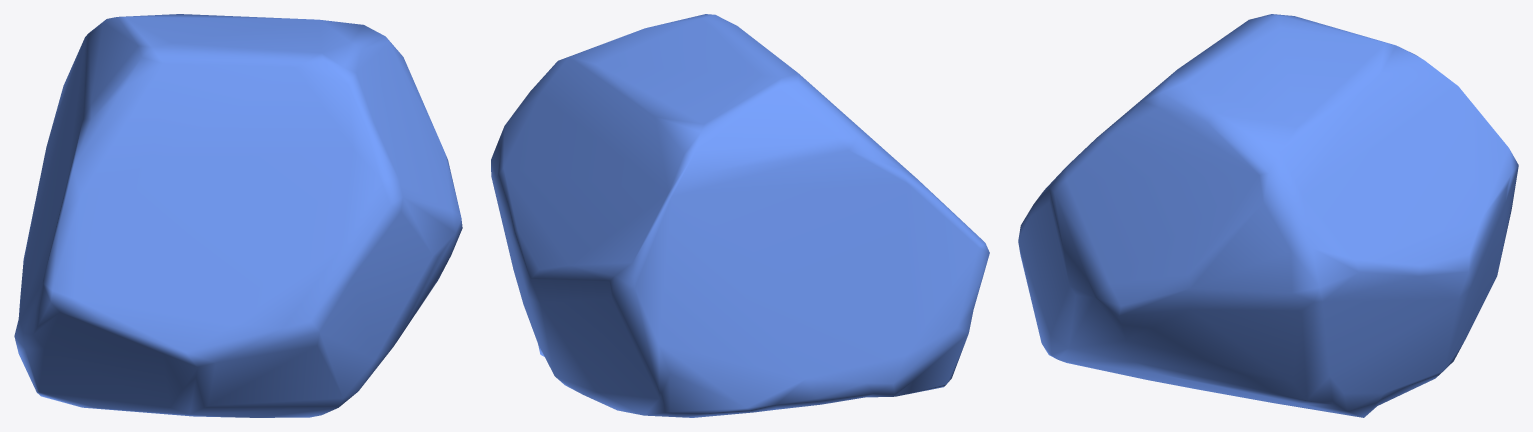
Rendered from SM_Env_Nature_Rock_05.obj.
3 renders of one model, left to right at view 1: azimuth 30°, elevation 25°; view 2: azimuth 150°, elevation 25°; view 3: azimuth 270°, elevation 25°, orthographic. The views are drawn at different scales.
Visible parts, largest first — view 1: SM_Env_Nature_Rock_05_Mat_GradientRock; view 2: SM_Env_Nature_Rock_05_Mat_GradientRock; view 3: SM_Env_Nature_Rock_05_Mat_GradientRock.
Part boxes in pixels (box(x1,y1,x2,y2)): SM_Env_Nature_Rock_05_Mat_GradientRock: box(14, 14, 462, 417); SM_Env_Nature_Rock_05_Mat_GradientRock: box(491, 14, 989, 417); SM_Env_Nature_Rock_05_Mat_GradientRock: box(1018, 14, 1518, 417).
Size of the model in its own units: 1.4 by 1.05 by 1.37.
1 material, 1 textured.
